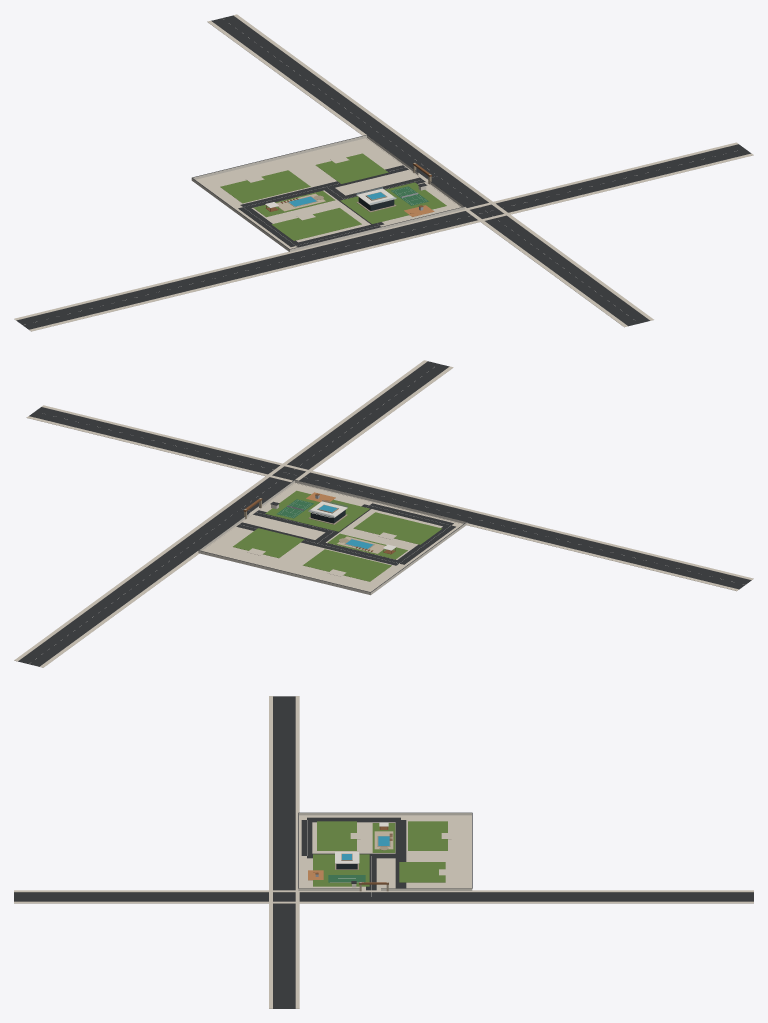
File: site.glb
3 renders of one model, top to bottom at view 1: azimuth 30°, elevation 25°; view 2: azimuth 150°, elevation 25°; view 3: azimuth 270°, elevation 25°, orthographic. The views are drawn at different scales.
Visible parts, largest first — view 1: site-asphalt, site-paving, site-lawn, site-wall, site-fin; view 2: site-asphalt, site-paving, site-lawn, site-wall, site-fin; view 3: site-asphalt, site-paving, site-lawn, site-wall.
Part boxes in pixels (x1,y1,x2,y2): site-asphalt: (16, 15, 751, 329); site-paving: (14, 14, 753, 331); site-lawn: (220, 153, 446, 240); site-wall: (191, 135, 464, 251); site-fin: (192, 135, 464, 249); site-asphalt: (18, 361, 751, 666); site-paving: (14, 360, 753, 667); site-lawn: (233, 490, 442, 581); site-wall: (198, 480, 467, 595); site-fin: (198, 480, 466, 592); site-asphalt: (14, 696, 753, 1008); site-paving: (14, 696, 753, 1008); site-lawn: (313, 821, 447, 886); site-wall: (298, 813, 472, 890).
Bounding box in the file's own units: 520 × 6.52 × 520.
